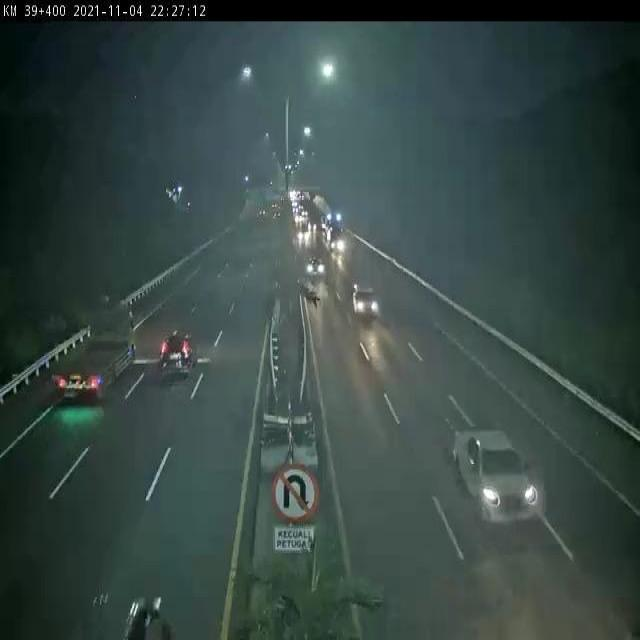car: (451, 419, 538, 525), (158, 329, 200, 376), (352, 278, 379, 318), (305, 255, 327, 280)
truck-m-: (49, 301, 138, 399)
